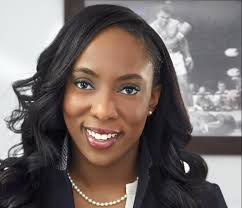black_female: (29, 5, 196, 178)
